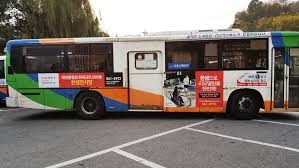entrance: (272, 46, 299, 110)
